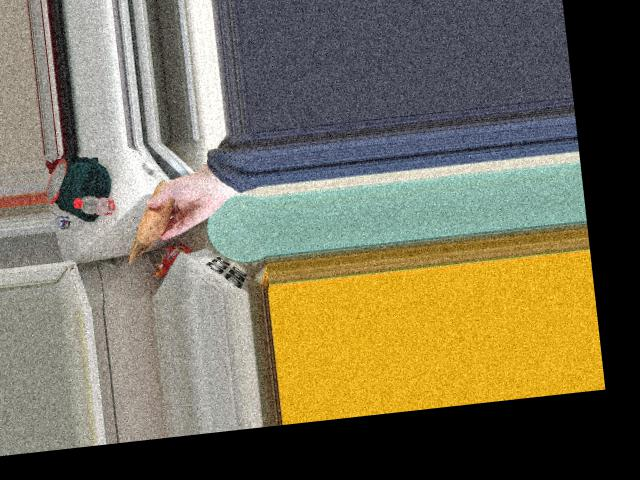sweet_potato: (134, 191, 177, 243)
